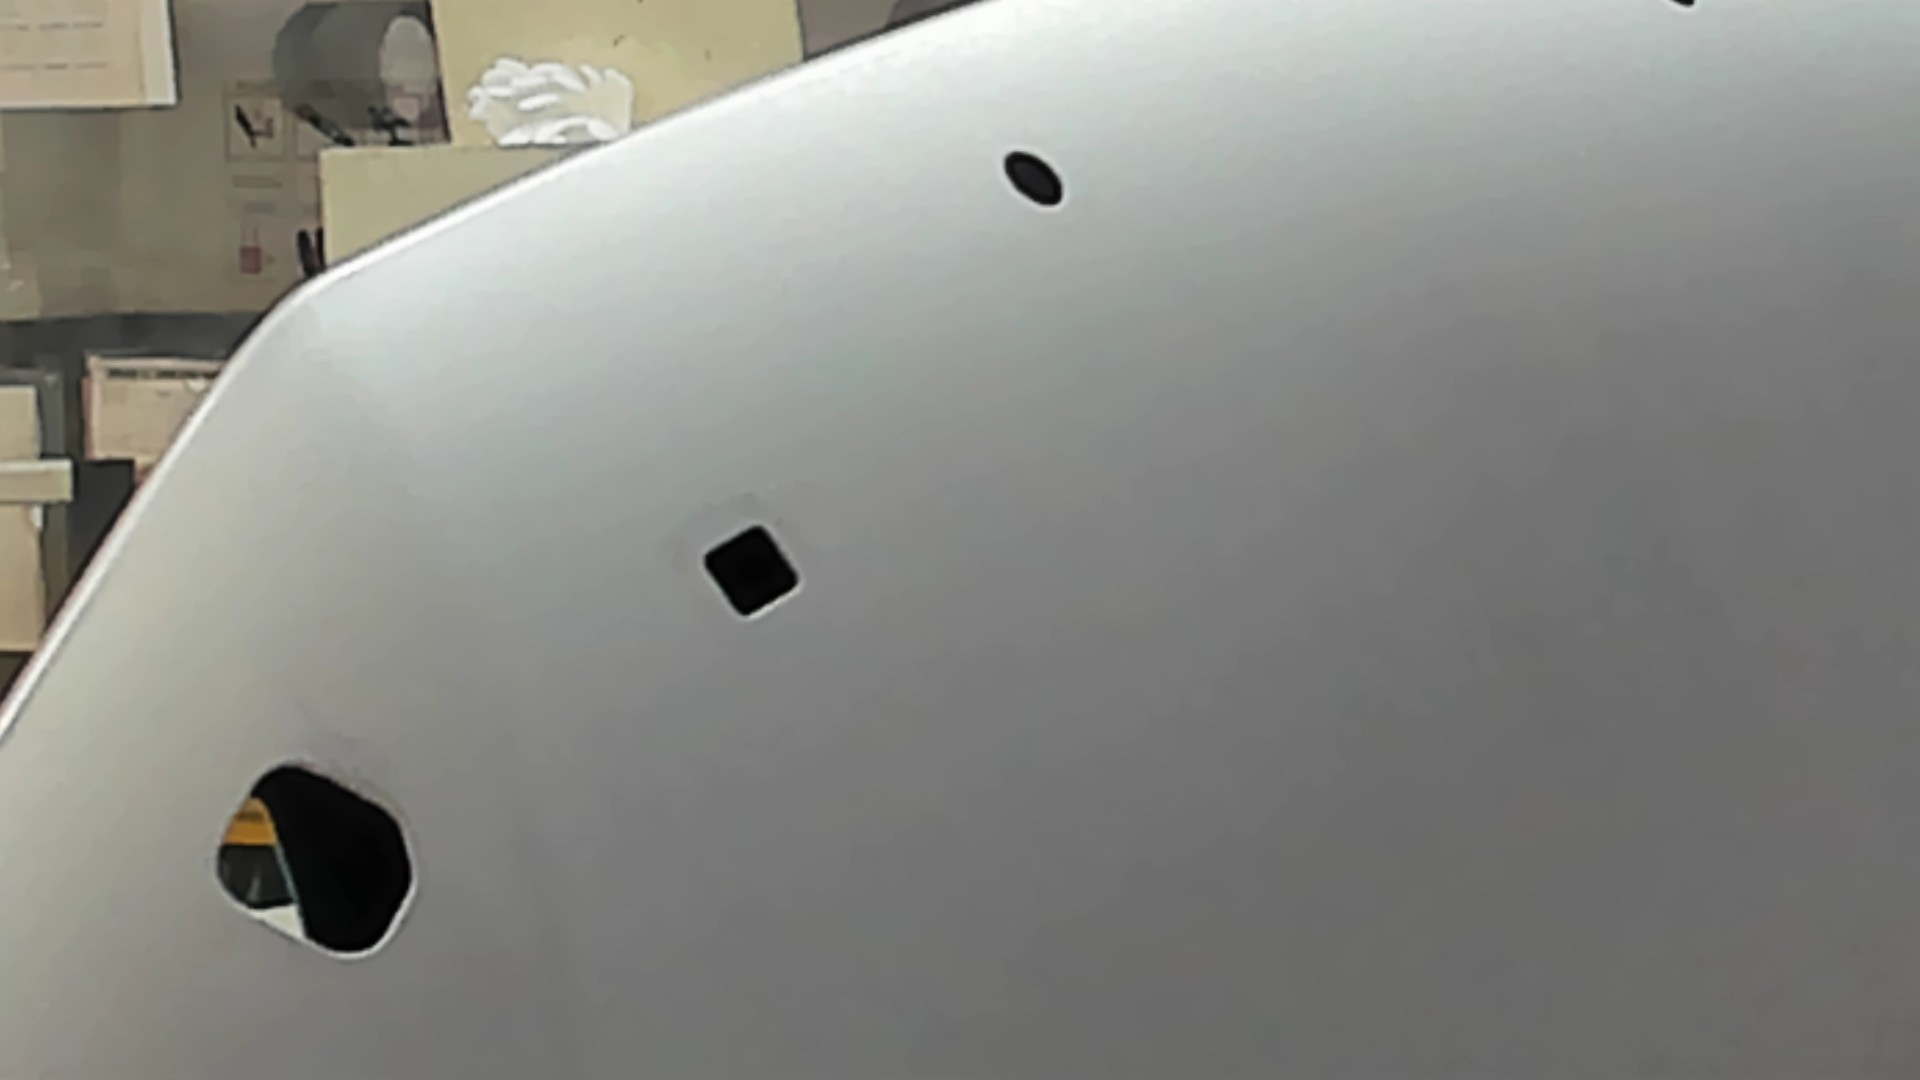Agujero: (702, 522, 803, 620), (1001, 149, 1065, 207)
Agujerote: (212, 757, 419, 960)
